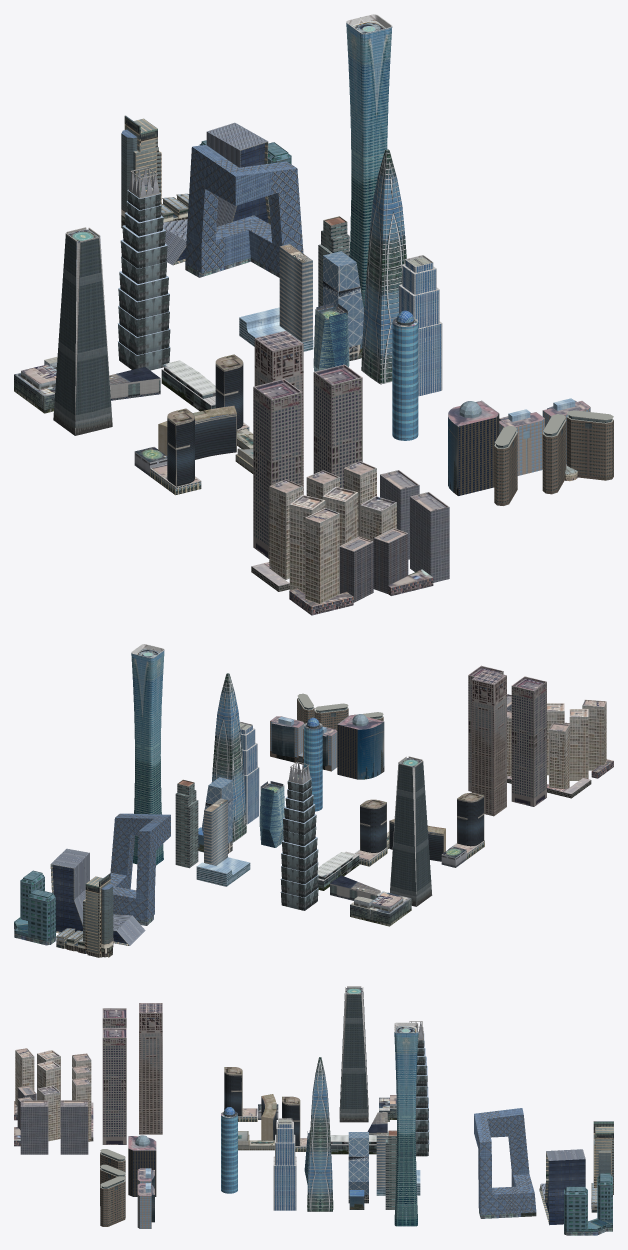
File: Buildings 1.fbx
3 views of the same model, one above another, from view 1: azimuth 30°, elevation 25°; view 2: azimuth 150°, elevation 25°; view 3: azimuth 270°, elevation 25° (orthographic). The views are drawn at different scales.
Visible parts, largest first — view 1: model_3.004, model_0.009, model_0.001, model_1.001, model_1.005, model_2.006, model_2.007, model_2.002, model_2.008, model_2.004, model_1.003, model_1 (+22 smaller); view 2: model_1.001, model_0.009, model_3.004, model_2.005, model_0.001, model_2.006, model_3.003, model_1.005, model_3.002, model_2.004, model_1.003, model_3.001 (+18 smaller); view 3: model_3.004, model_1.001, model_0.009, model_2.005, model_1.005, model_2.007, model_3.003, model_3.001, model_1, model_1.004, model_2.010, model_2.011 (+20 smaller).
Part boxes in pixels (x1,y1,x2,y2): model_3.004: (185, 144, 303, 277); model_0.009: (53, 227, 112, 435); model_0.001: (118, 167, 170, 370); model_1.001: (346, 14, 392, 310); model_1.005: (361, 149, 406, 384); model_2.006: (253, 379, 302, 558); model_2.007: (313, 364, 362, 488); model_2.002: (542, 410, 613, 494); model_2.008: (251, 461, 376, 591); model_2.004: (448, 400, 499, 495); model_1.003: (239, 244, 313, 351); model_1: (399, 255, 442, 396); model_1.001: (131, 644, 164, 865); model_0.009: (390, 756, 432, 906); model_3.004: (110, 813, 170, 925); model_2.005: (471, 670, 506, 816); model_0.001: (280, 762, 318, 910); model_2.006: (511, 676, 546, 806); model_3.003: (50, 848, 145, 945); model_1.005: (211, 673, 246, 842); model_3.002: (56, 873, 113, 957); model_2.004: (337, 714, 384, 779); model_1.003: (196, 798, 250, 886); model_3.001: (14, 870, 55, 945); model_3.004: (474, 1108, 536, 1218); model_1.001: (394, 1022, 418, 1226); model_0.009: (339, 986, 368, 1122); model_2.005: (139, 1003, 162, 1134); model_1.005: (307, 1057, 333, 1211); model_2.007: (102, 1027, 126, 1144); model_3.003: (539, 1149, 585, 1225); model_3.001: (564, 1173, 612, 1235); model_1: (273, 1118, 296, 1210); model_1.004: (348, 1132, 368, 1209); model_2.010: (60, 1100, 88, 1154); model_2.011: (20, 1100, 48, 1154).
Size of the model in its own units: 814 by 575 by 1606.
